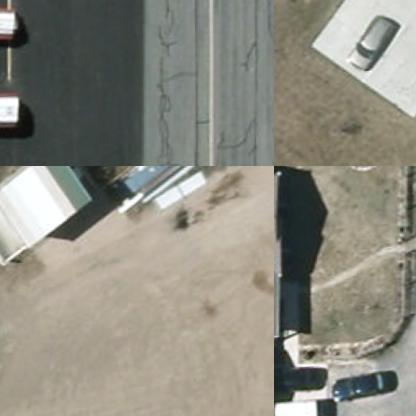car: (342, 8, 403, 80), (330, 370, 386, 410), (274, 363, 325, 402), (274, 399, 322, 415), (0, 1, 17, 44)
